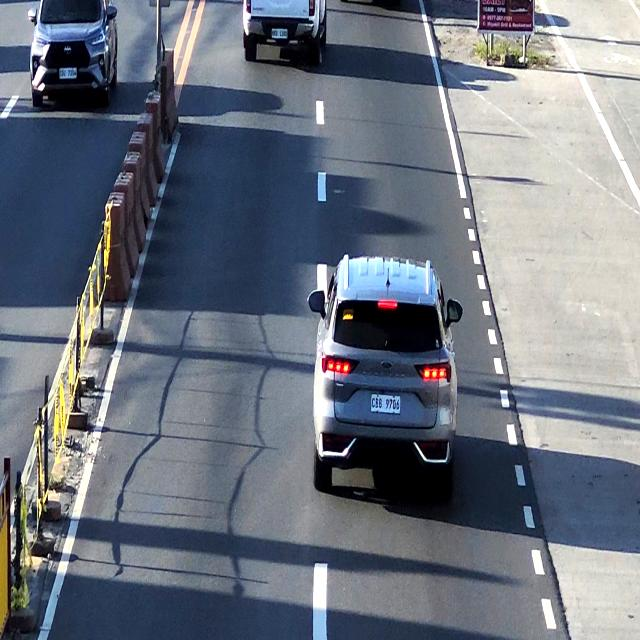Car: (314, 250, 450, 495), (242, 0, 326, 68)
License-Plate: (368, 395, 404, 419)
